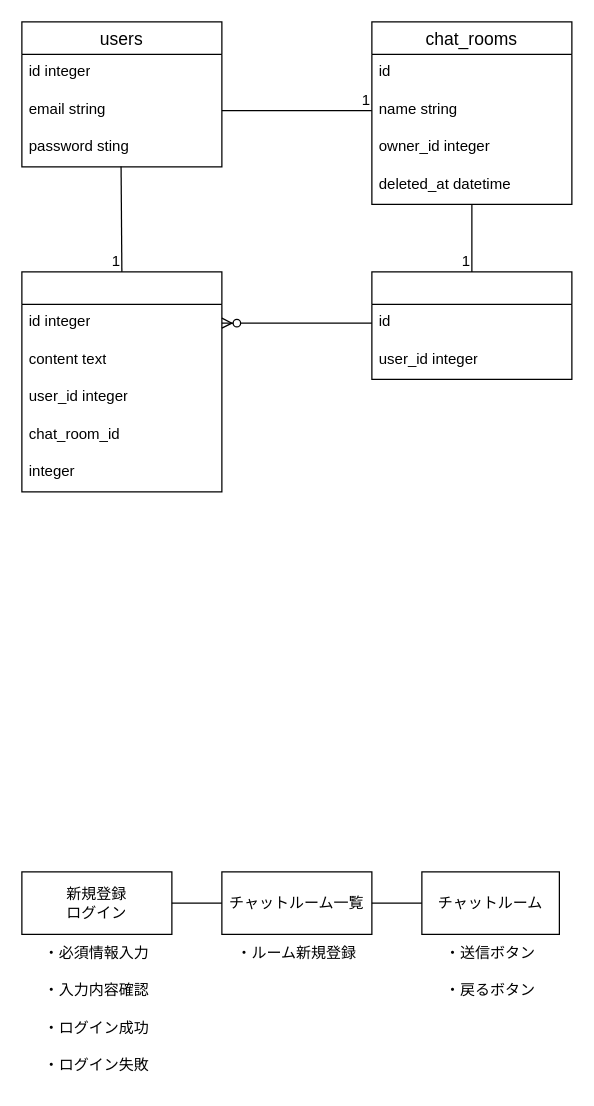
The diagram is 594 pixels wide and 1106 high, and some of its shapes have lost their labels. The shapes that lost their labels are listed below. From the top down, each one's box as (x1, y1, x2, y2) in pixels, then its label:
(371, 271, 572, 379): chat_room_users
(21, 271, 222, 492): messages
